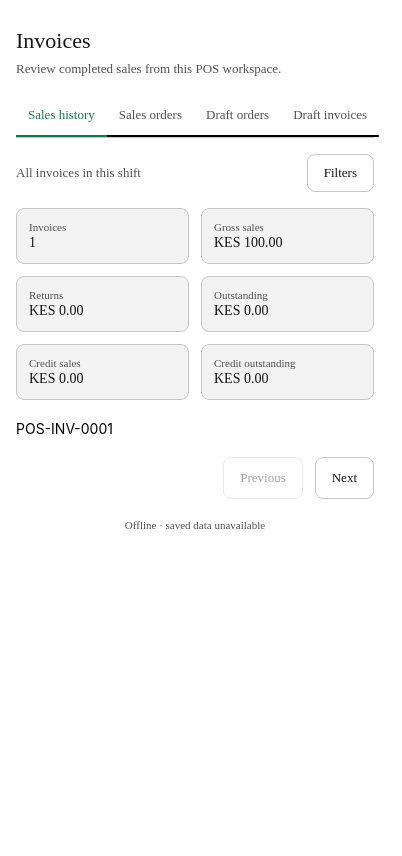
Test: PosInvoicesScreen › keeps the Sales orders tab selected when its filters are cleared
Click the tab "Sales orders" at (150, 116), box [107,95,194,137]
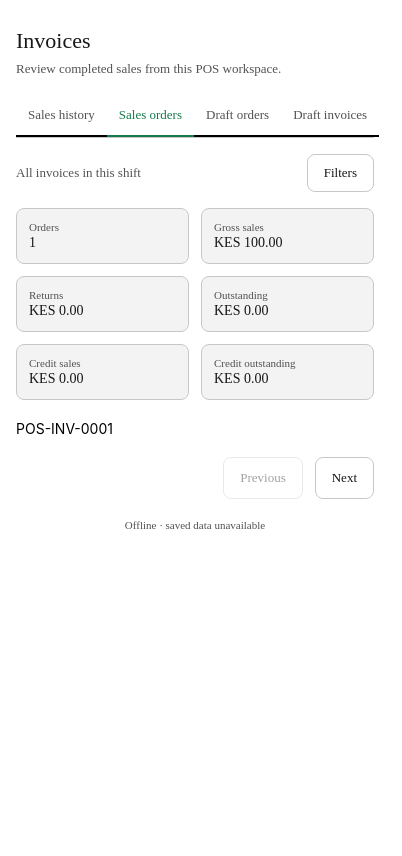
Click the element named "Open invoice filters" at (340, 173), box [307,154,374,192]
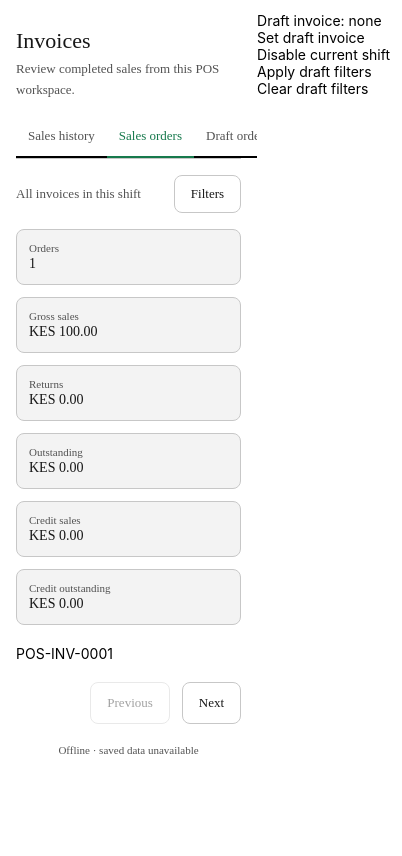
Result: the element labelled "Clear draft filters" is shown
Click the element labelled "Clear draft filters" at (313, 88), box [257,80,368,97]
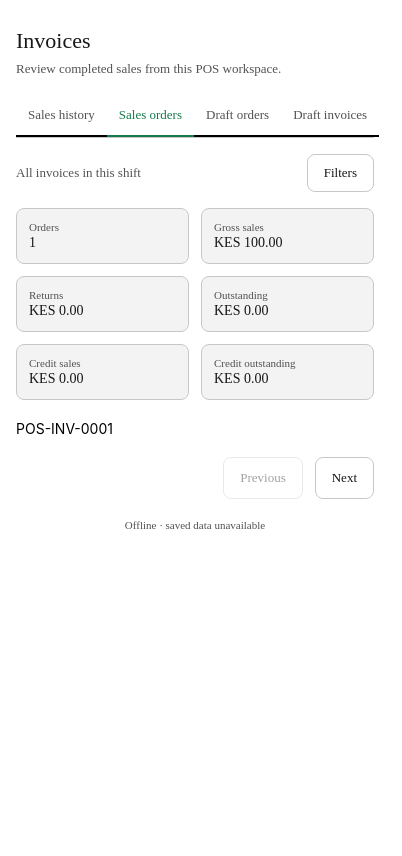
Result: the text labelled "Clear draft filters" is gone
